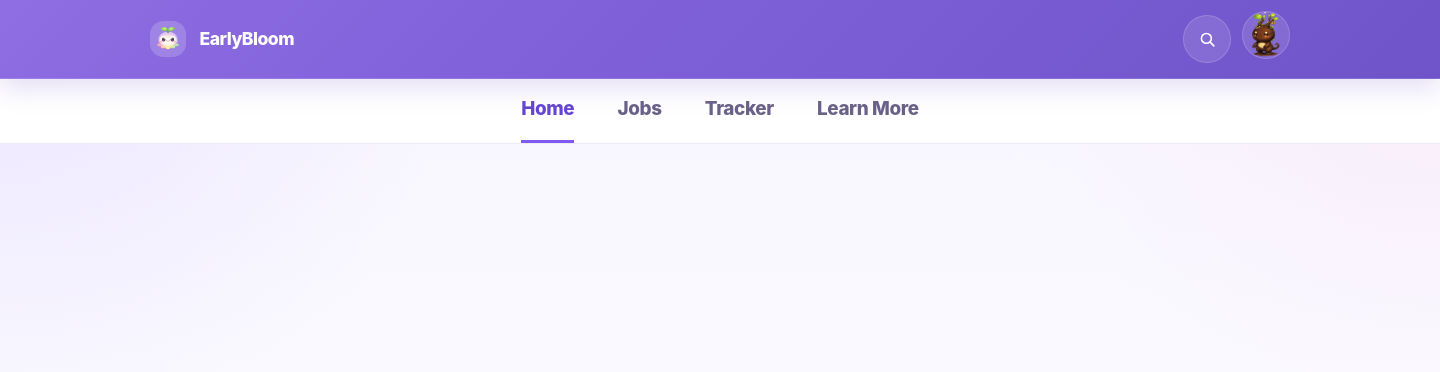
Scenario: Navbar › closes menu on escape
Step 1. Click the button named "Open profile menu" → click(1266, 35), box [1242, 11, 1290, 59]
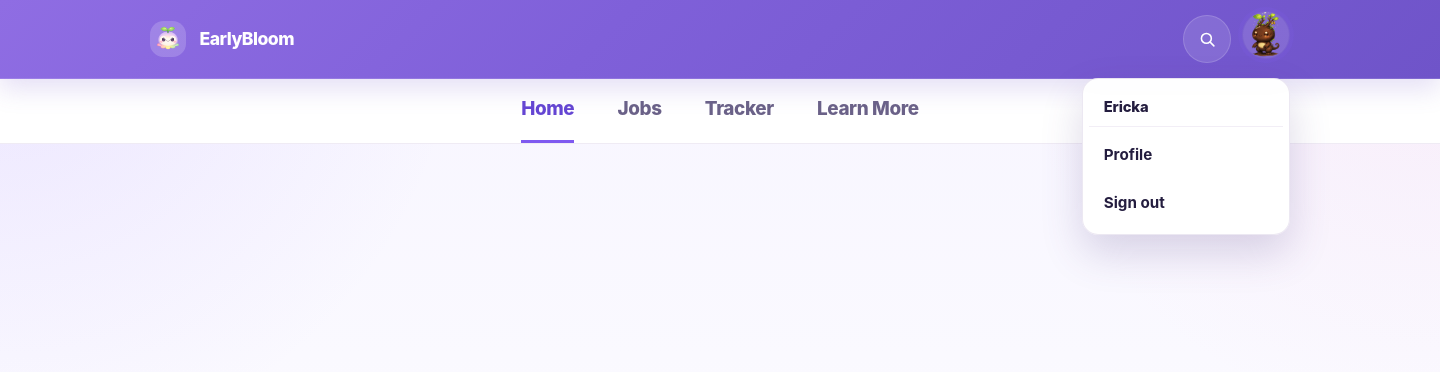
Step 2. Press Escape
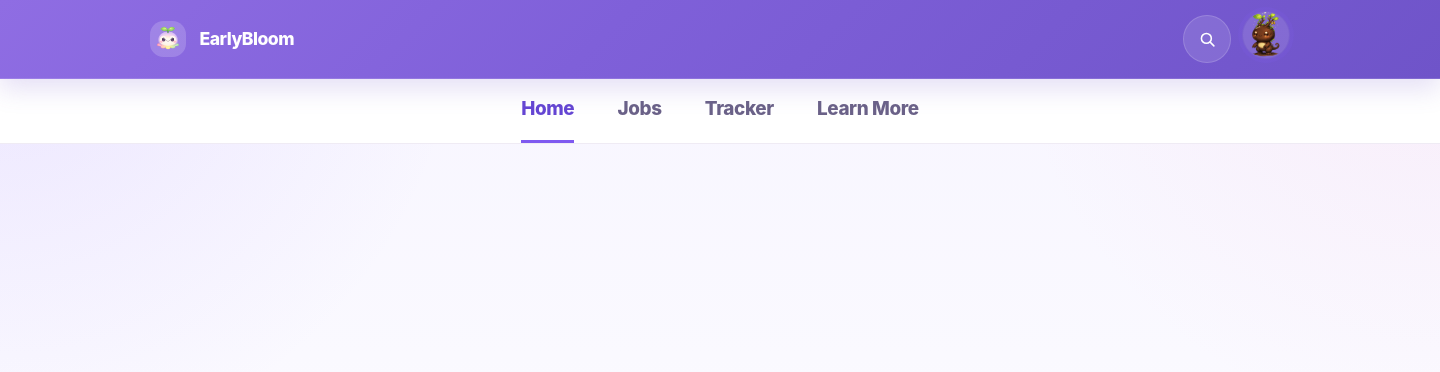
Now the menu item "Profile" is gone
